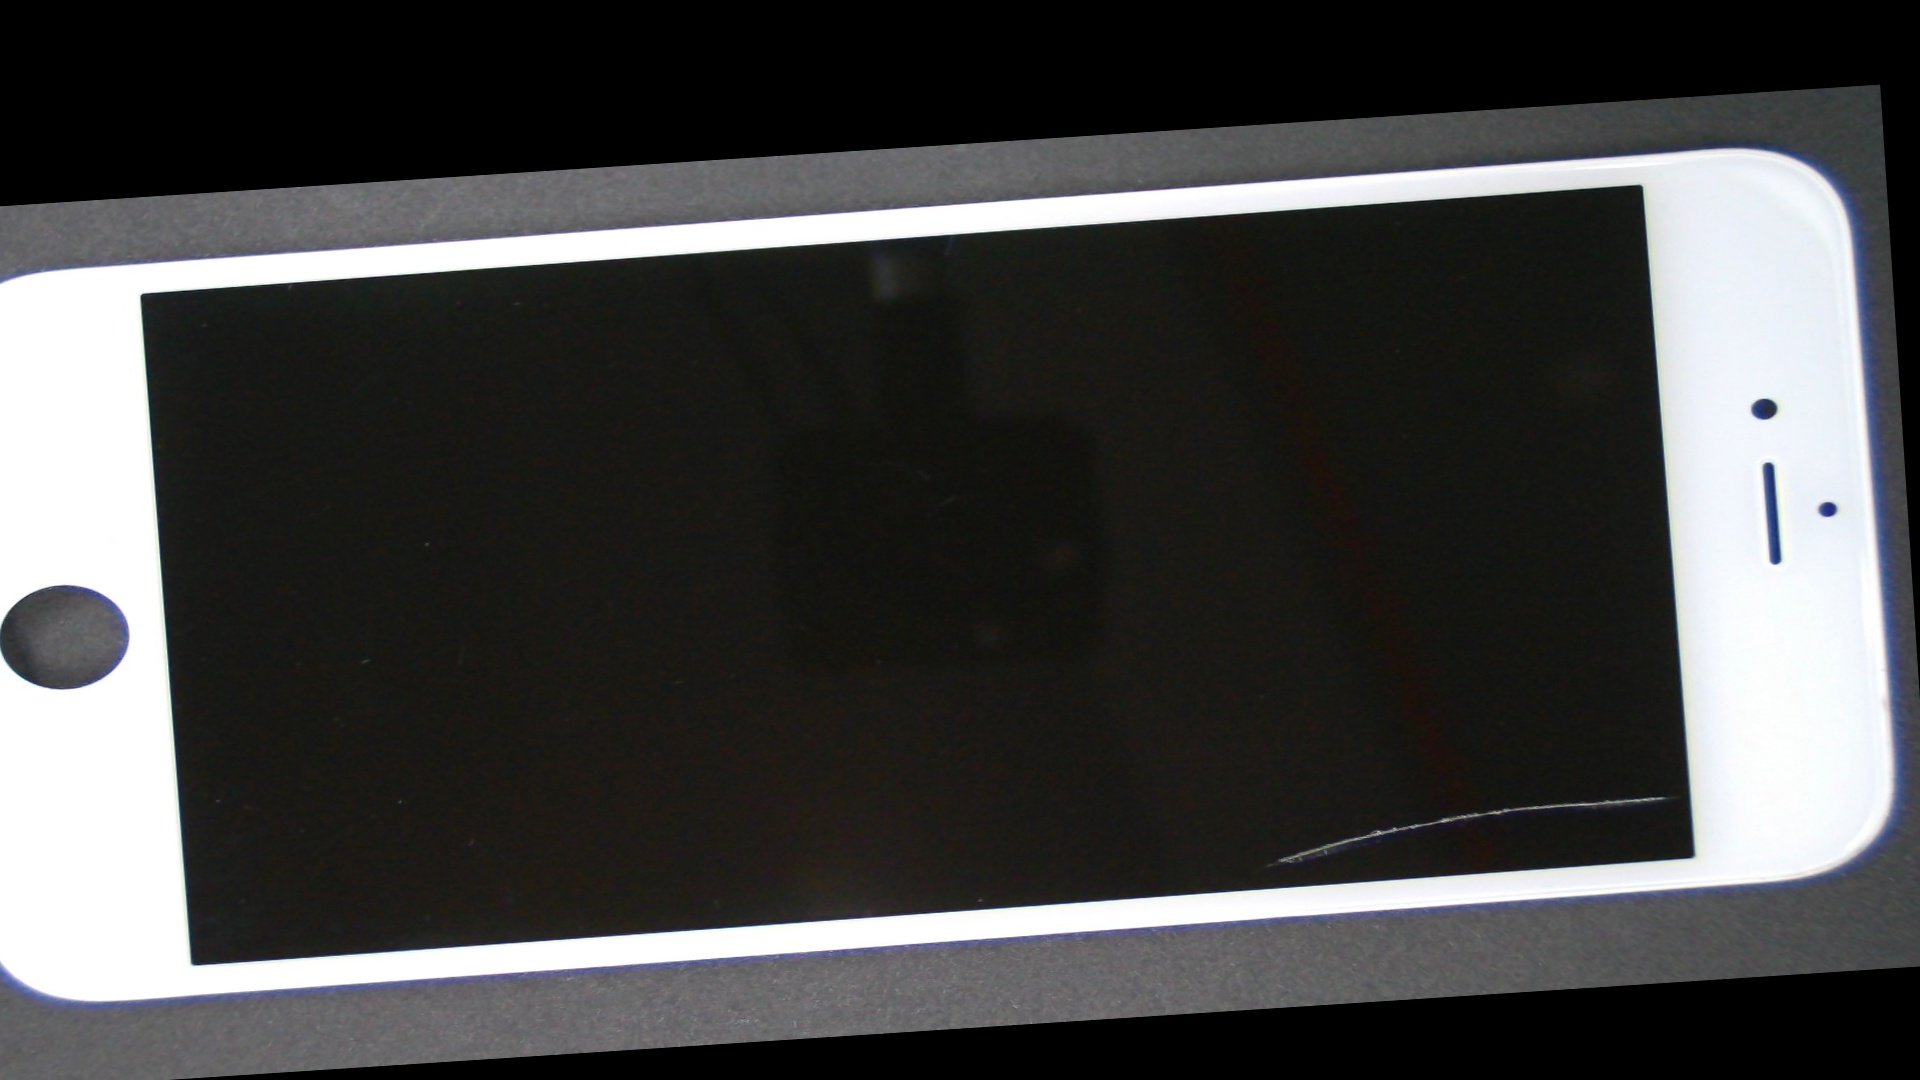oil: (779, 431, 1920, 1038)
